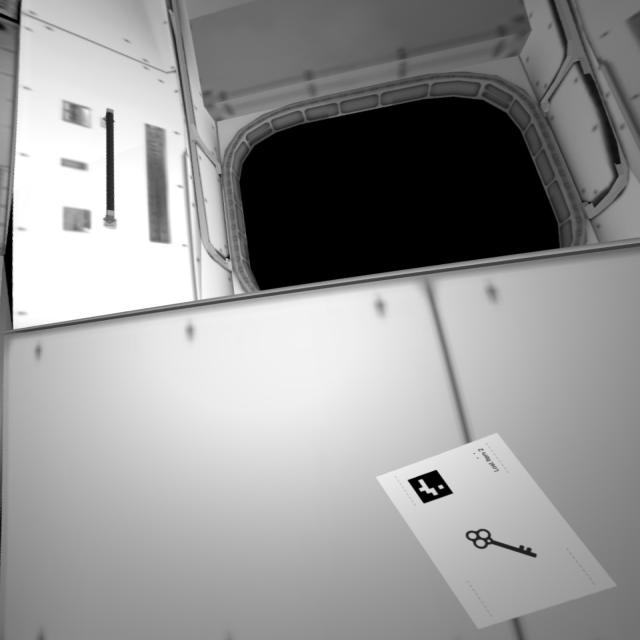key: (466, 526, 555, 571)
